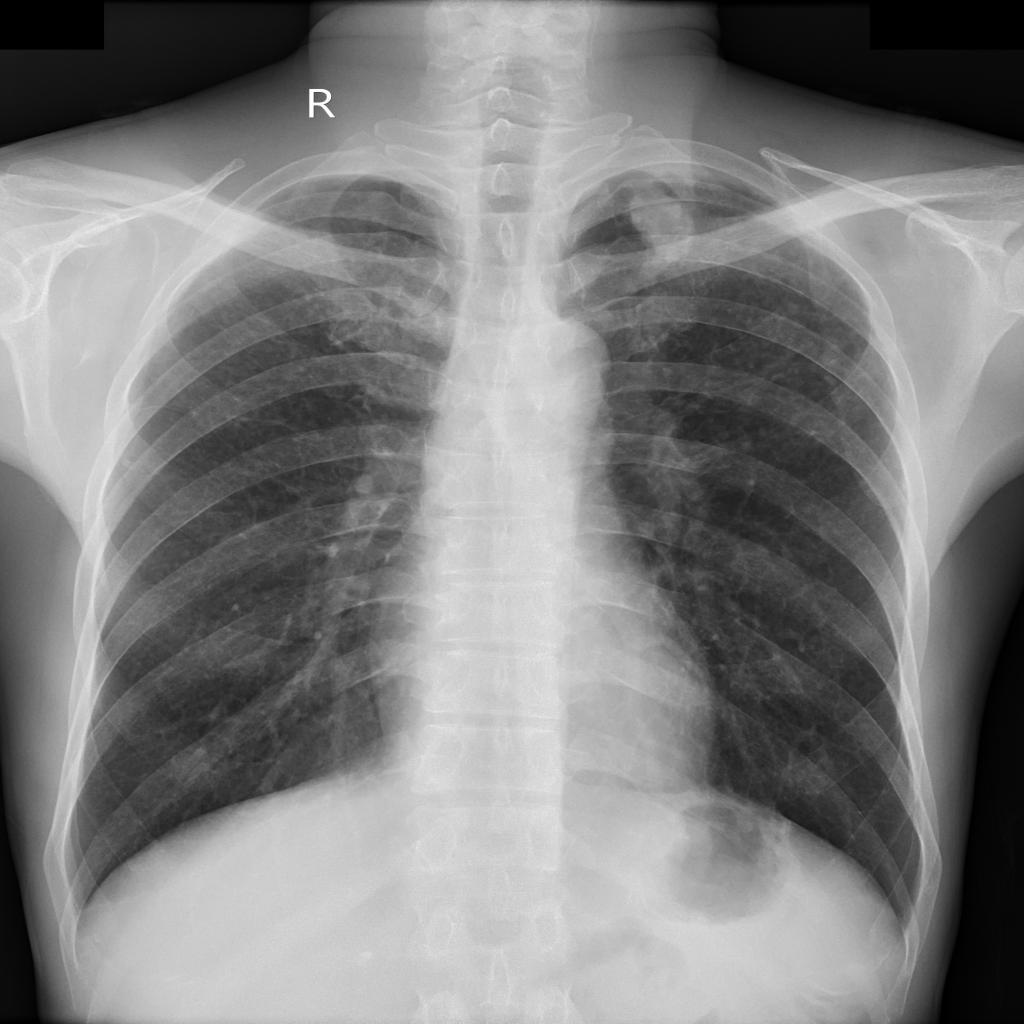Nodule: (628, 188, 694, 263)
